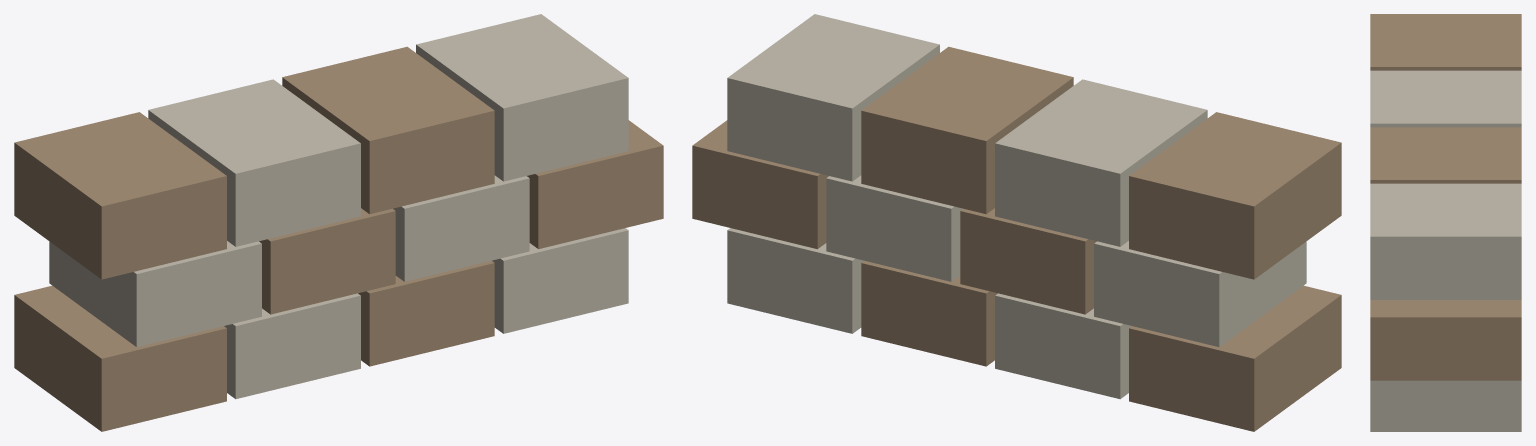
Rendered from sandbags.glb.
The picture shows the model from 3 angles, left to right: view 1: azimuth 30°, elevation 25°; view 2: azimuth 150°, elevation 25°; view 3: azimuth 270°, elevation 25°; orthographic projection. The views are drawn at different scales.
Visible parts, largest first — view 1: body; view 2: body; view 3: body.
Part boxes in pixels (bbox=[...]): body: bbox=[14, 14, 663, 431]; body: bbox=[692, 14, 1341, 431]; body: bbox=[1370, 14, 1521, 431].
Size of the model in its own units: 1.93 by 0.74 by 0.52.
